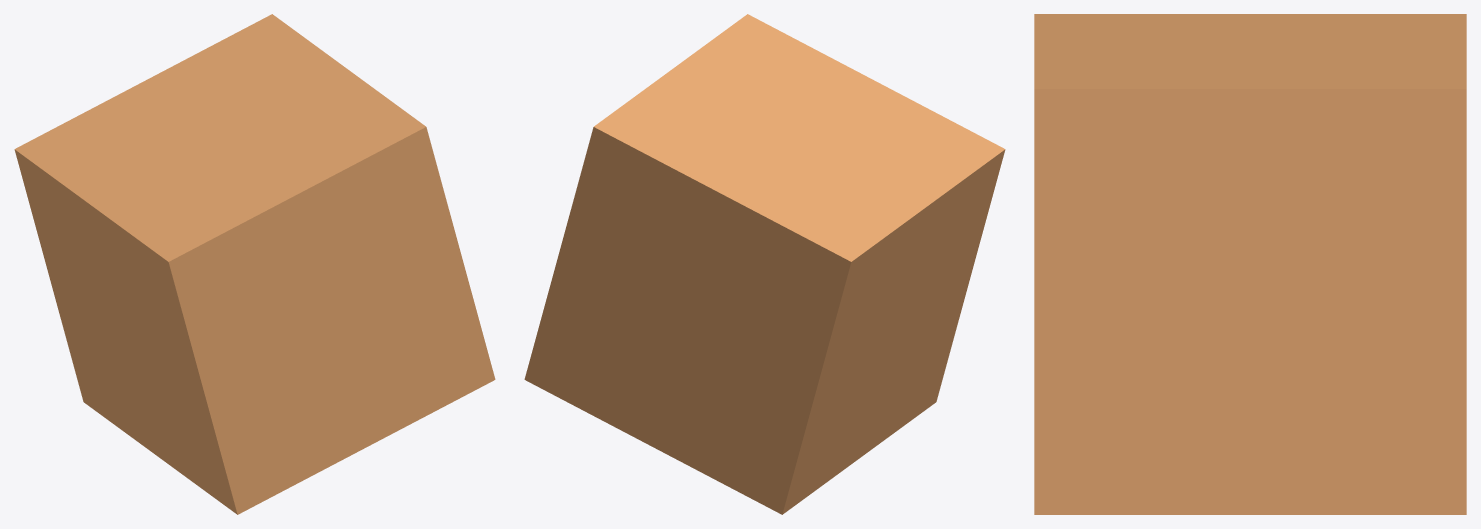
The model's file is validation_crate.gltf.
3 renders of one model, left to right at view 1: azimuth 30°, elevation 25°; view 2: azimuth 150°, elevation 25°; view 3: azimuth 270°, elevation 25°, orthographic. The views are drawn at different scales.
Bounding box in the file's own units: 1.47 × 1.47 × 1.2.
